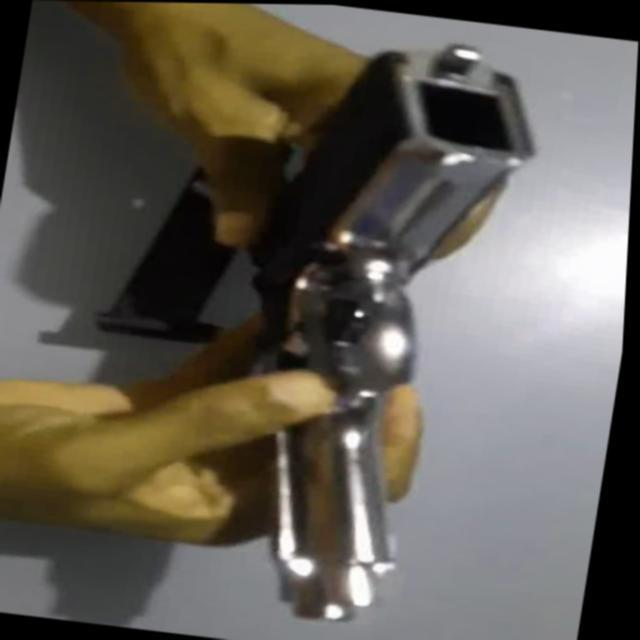weapon: (57, 2, 556, 636)
